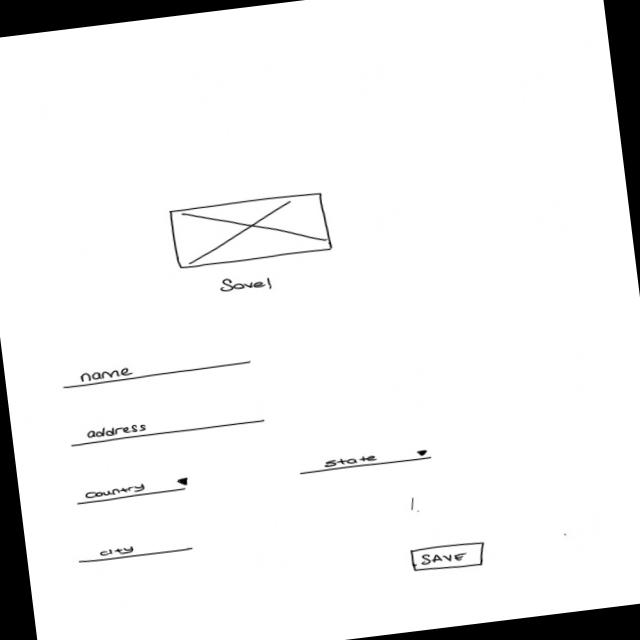button: (410, 539, 491, 576)
image: (167, 190, 336, 273)
input: (68, 406, 268, 449), (59, 351, 253, 391), (76, 535, 195, 567)
label: (218, 272, 276, 298)
select: (298, 444, 435, 477), (74, 473, 193, 508)
